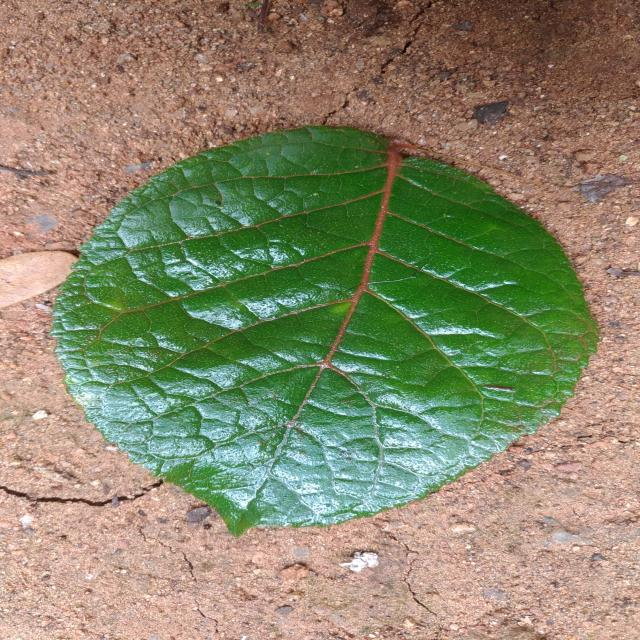padri: (53, 126, 598, 535)
